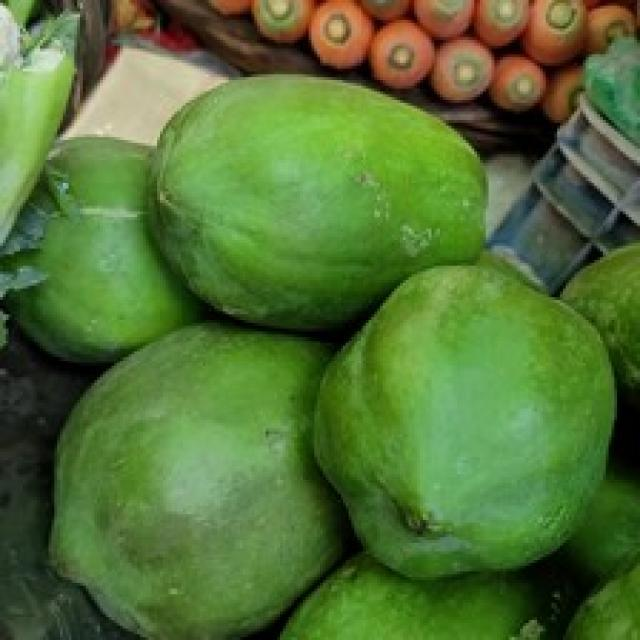Pepaya unrippen: (335, 270, 629, 575), (42, 329, 344, 616), (146, 68, 521, 295)
